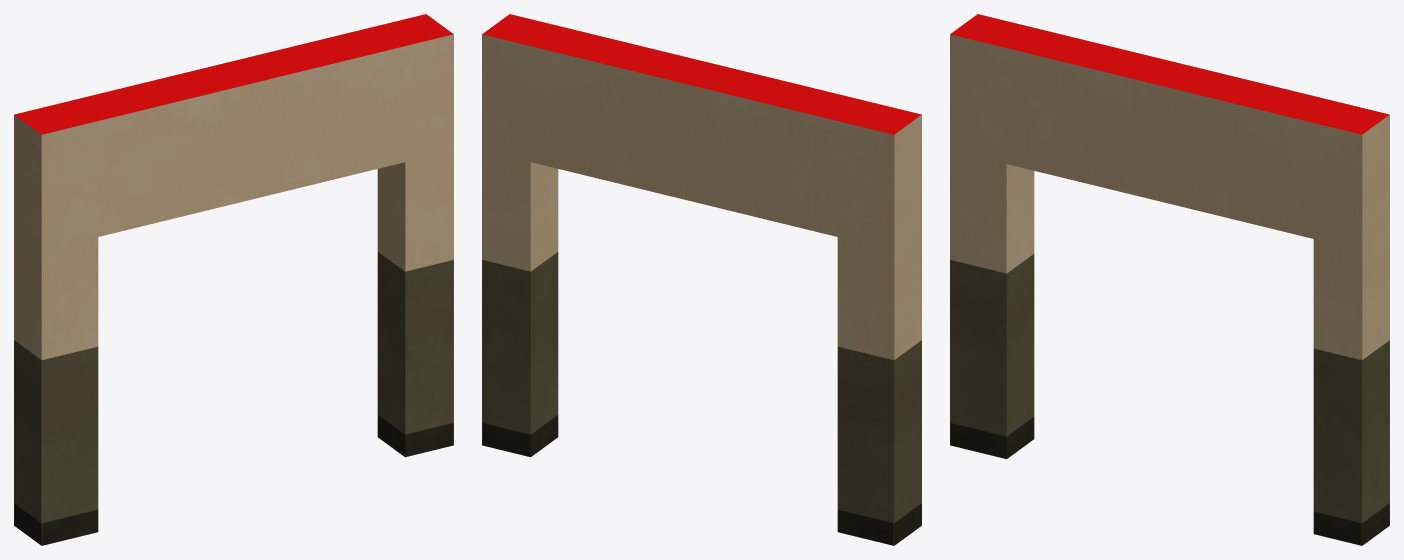
Rendered from DoubleDoorway4.fbx.
3 views of the same model, side by side, from view 1: azimuth 30°, elevation 25°; view 2: azimuth 150°, elevation 25°; view 3: azimuth 330°, elevation 25° (orthographic).
Visible parts, largest first — view 1: DoubleDoorHolder4; view 2: DoubleDoorHolder4; view 3: DoubleDoorHolder4.
Boxes of the visible parts, x1,y1,x2,y2 form: DoubleDoorHolder4: [14, 14, 453, 545]; DoubleDoorHolder4: [482, 14, 921, 545]; DoubleDoorHolder4: [950, 14, 1389, 545].
Bounding box in the file's own units: 4.3 × 4.1 × 0.5.
2 materials, 1 textured.
